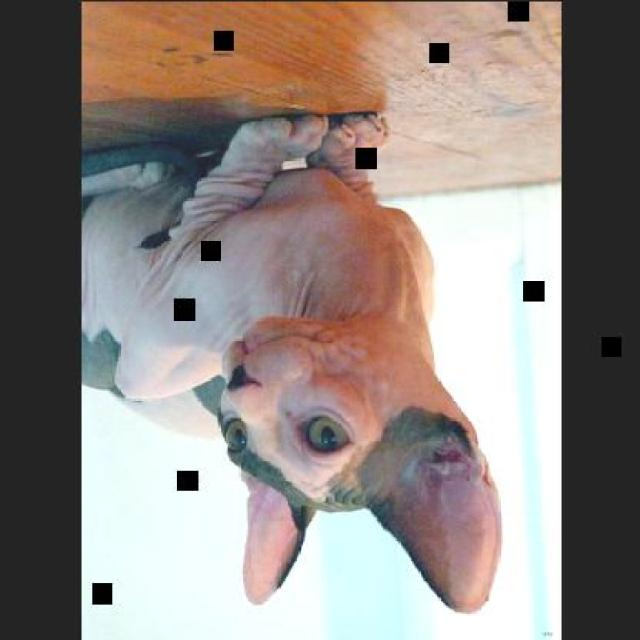unauthorized: (80, 108, 503, 614)
